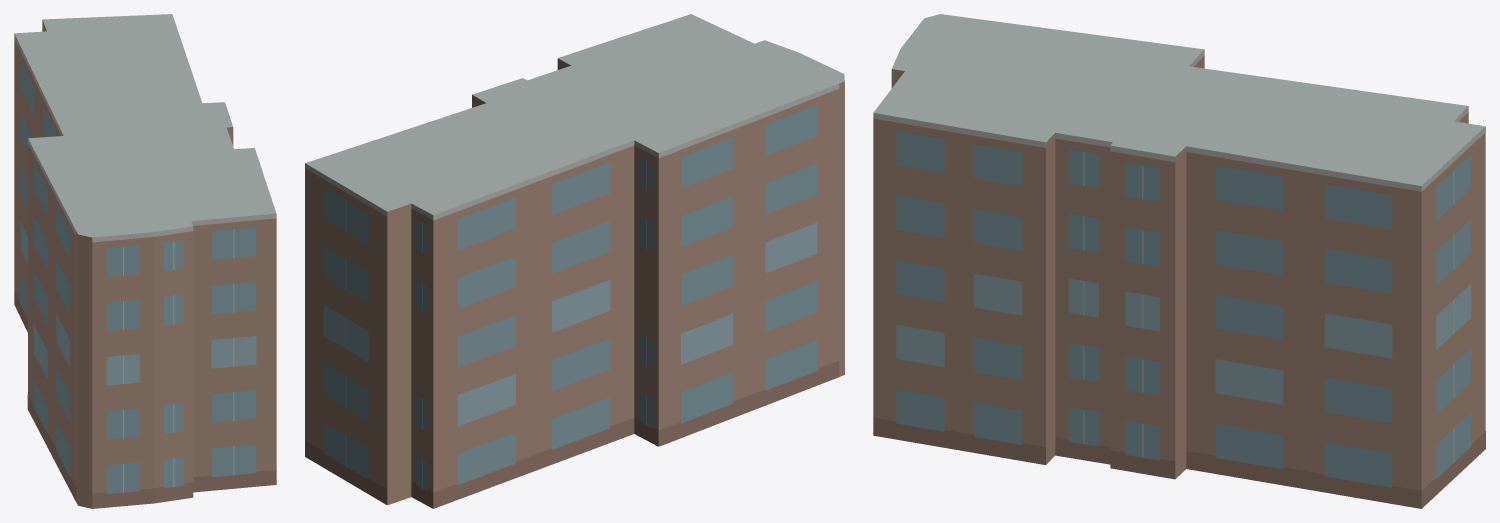
The model's file is survey-upis-32871563.glb.
The picture shows the model from 3 angles, left to right: view 1: azimuth 30°, elevation 25°; view 2: azimuth 150°, elevation 25°; view 3: azimuth 270°, elevation 25°; orthographic projection. The views are drawn at different scales.
Visible parts, largest first — view 1: survey-upis-32871563.tmp; view 2: survey-upis-32871563.tmp; view 3: survey-upis-32871563.tmp.
Part boxes in pixels (<box>): survey-upis-32871563.tmp: <box>14,14,276,508</box>; survey-upis-32871563.tmp: <box>305,14,844,508</box>; survey-upis-32871563.tmp: <box>873,14,1485,508</box>.
Bounding box in the file's own units: 15.74 × 13.75 × 23.66.
